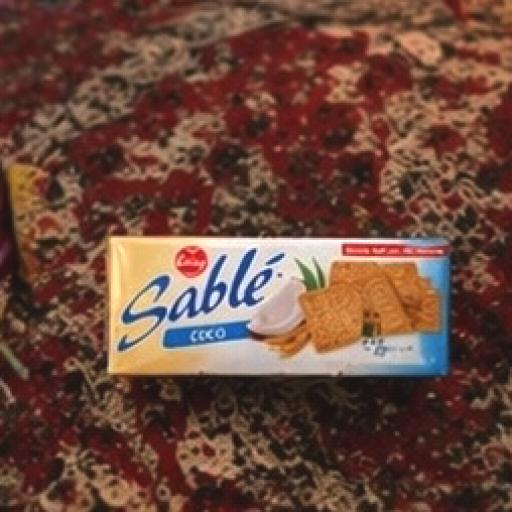sabl: (68, 184, 493, 467)
